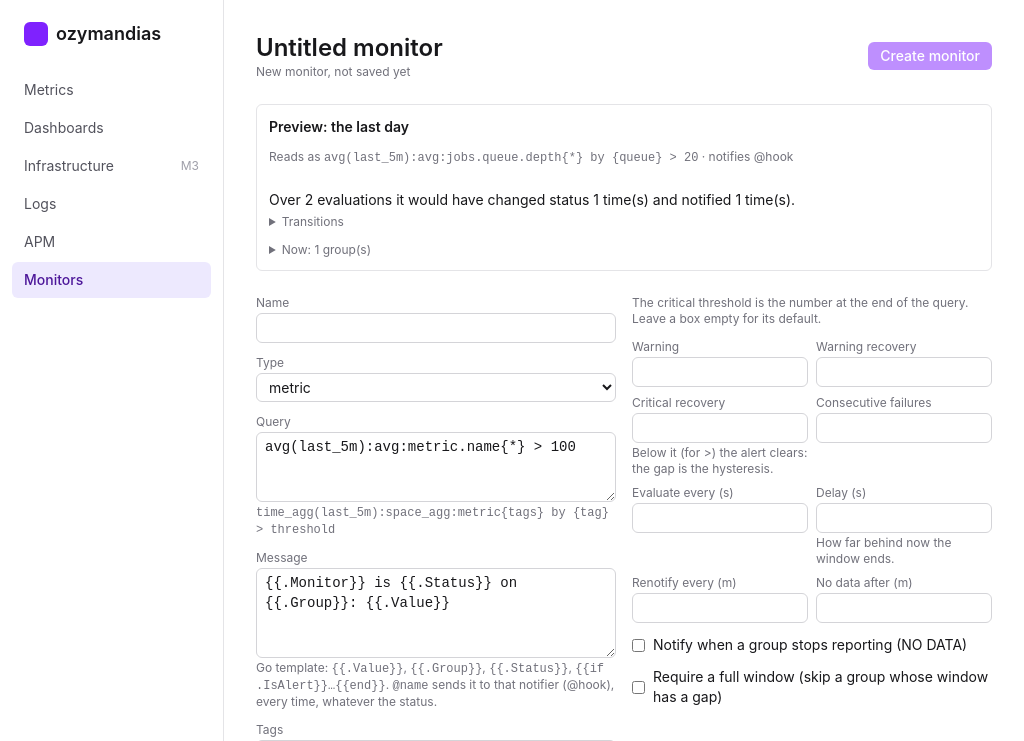
Test: MonitorEditor › shows why a save was refused
This screenshot has width=1024, height=741.
Type "x" into the field labelled "Name" at coordinates (436, 328), box x1=256 y1=313 x2=616 y2=343
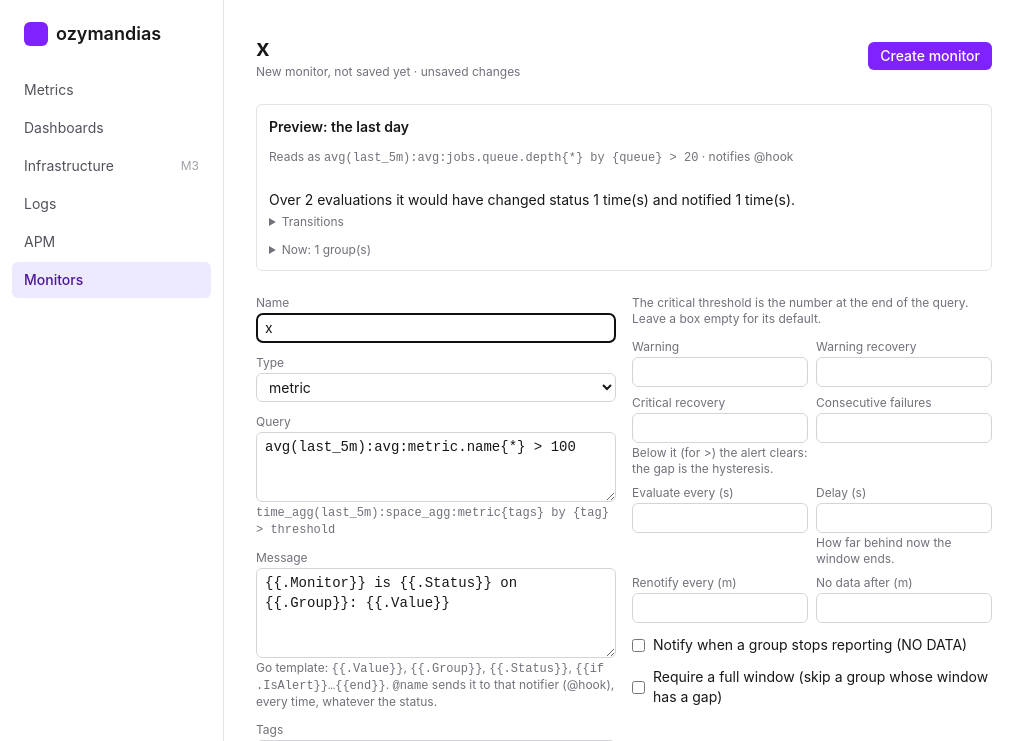
Click the button "Create monitor" at coordinates (930, 56), box x1=868 y1=42 x2=992 y2=70
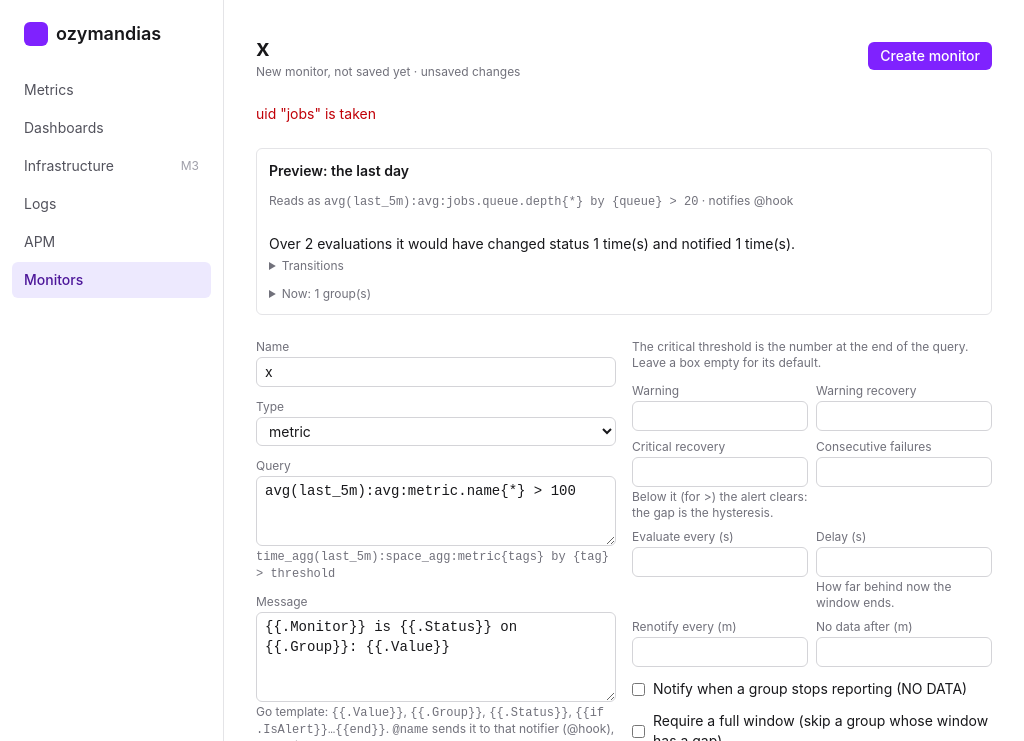
Result: the message reads "uid \"jobs\" is taken" at x1=256 y1=105 x2=376 y2=122
